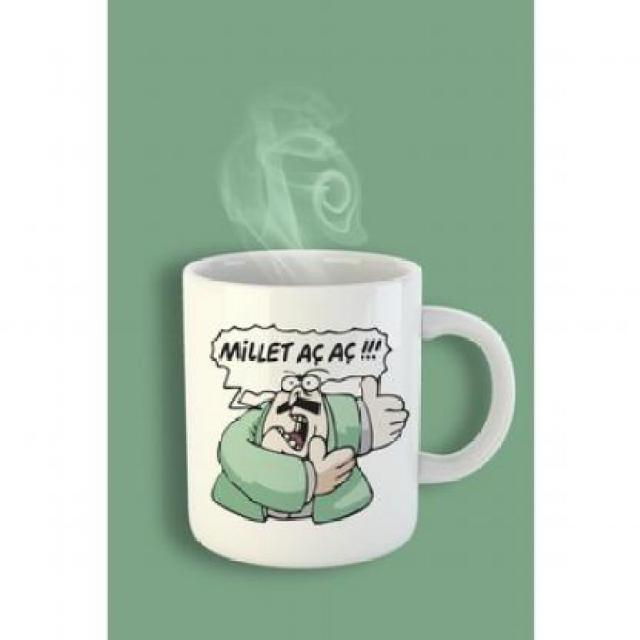taza: (184, 252, 515, 566)
